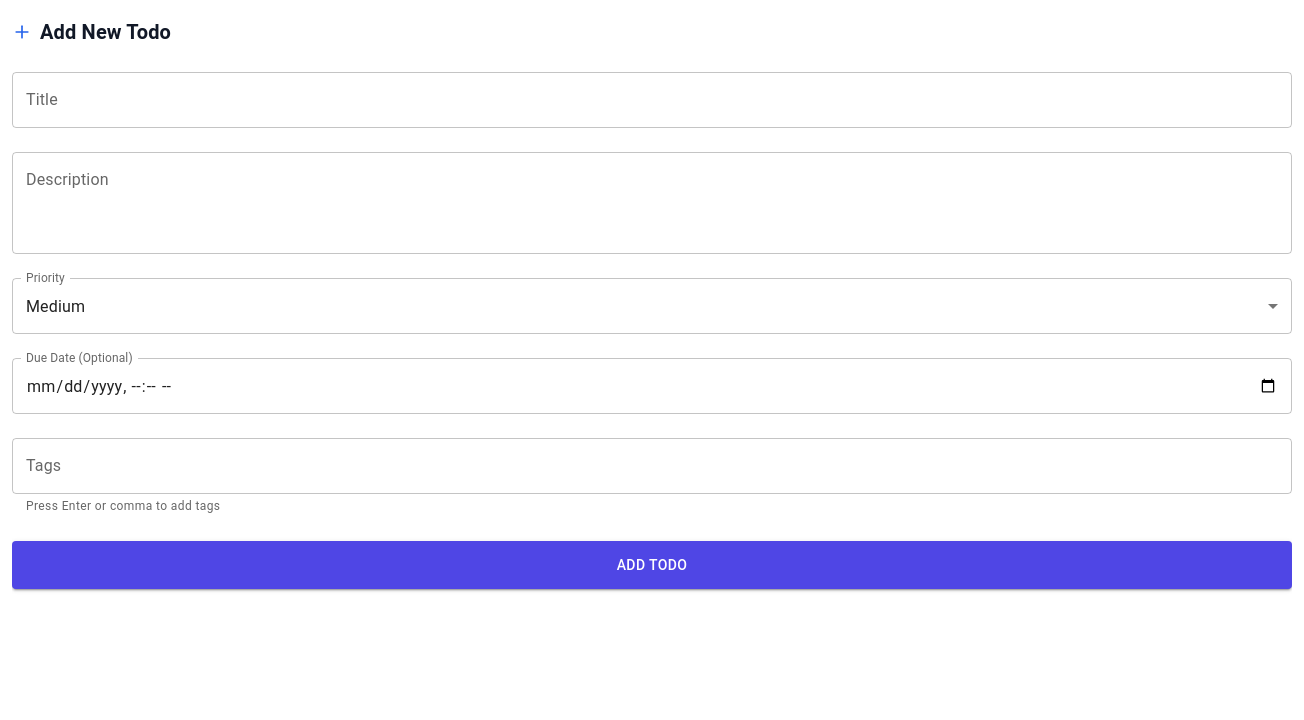
TodoForm › validates required title field
Click the button "Add Todo" at (652, 565), box [12,541,1292,589]
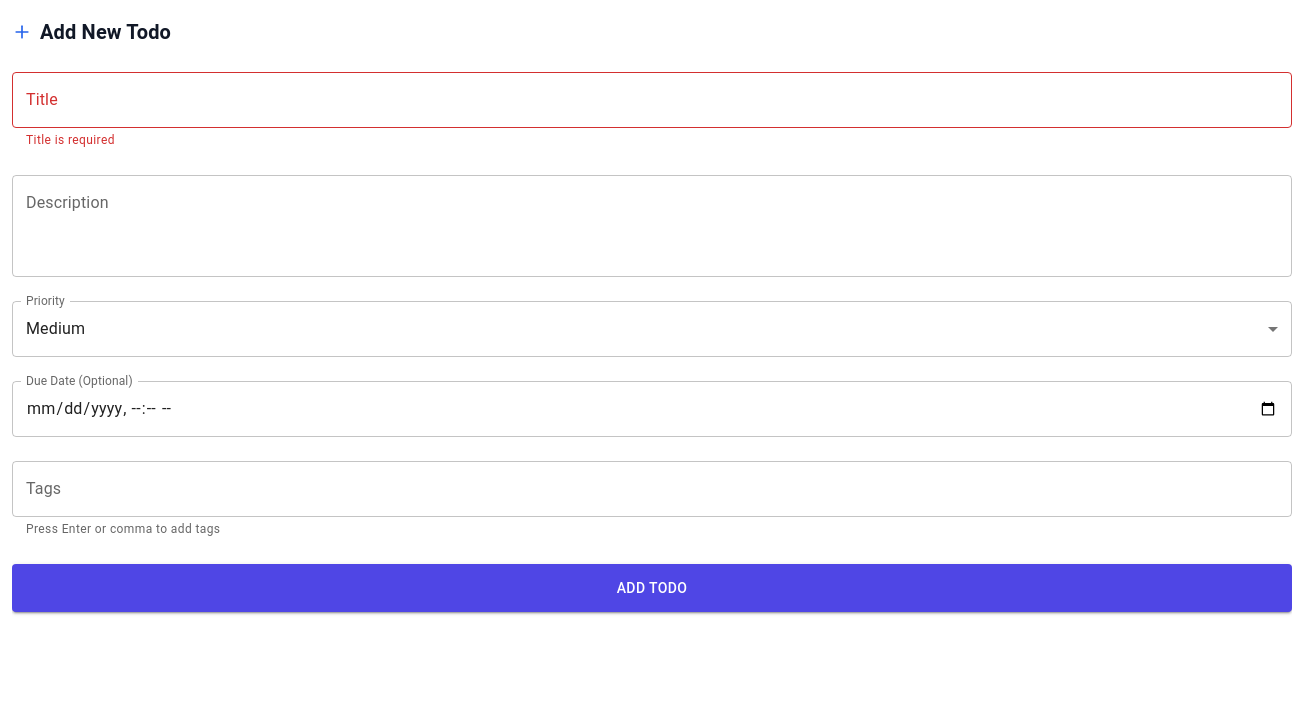
Expected: the text "Title is required" is shown, [26,133,115,147]
